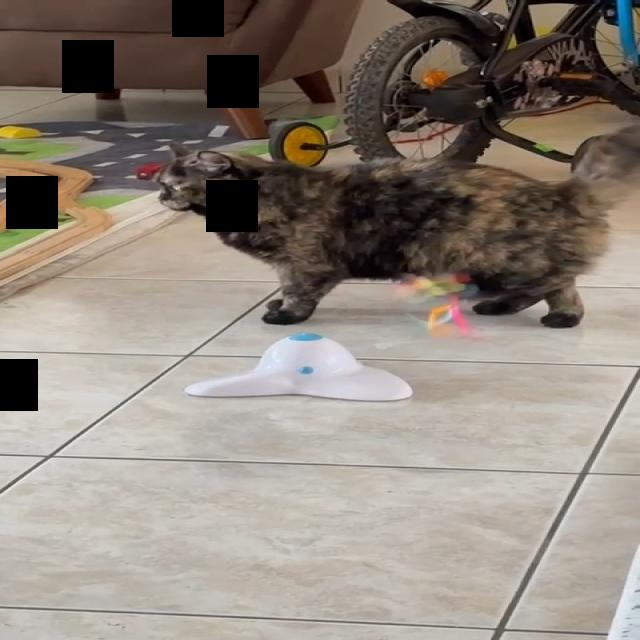authorized: (152, 140, 613, 328)
